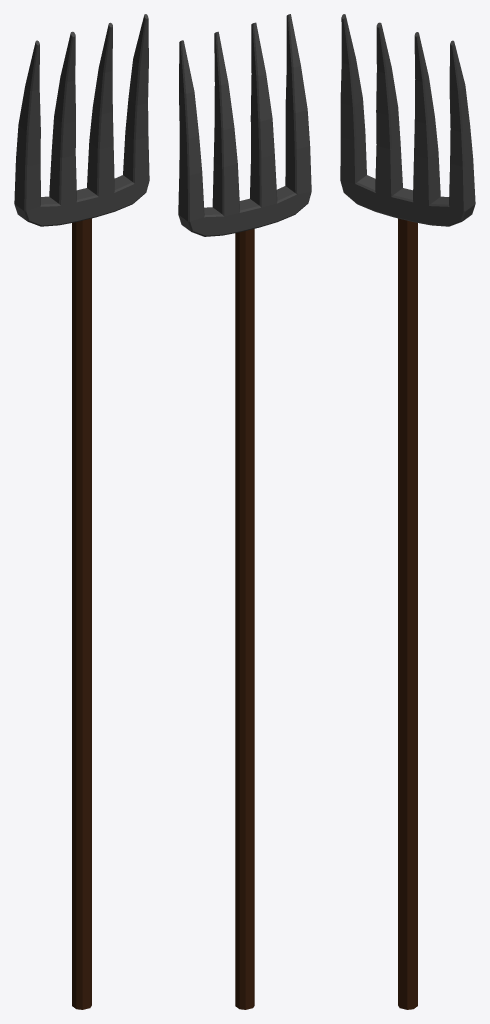
File: Pitchfork_FBX.fbx
3 views of the same model, side by side, from view 1: azimuth 30°, elevation 25°; view 2: azimuth 210°, elevation 25°; view 3: azimuth 330°, elevation 25° (orthographic).
Visible parts, largest first — view 1: Pitchfork; view 2: Pitchfork; view 3: Pitchfork.
Part boxes in pixels (left/top/right/bottom): Pitchfork: left=14, top=14, right=149, bottom=1009; Pitchfork: left=178, top=14, right=311, bottom=1009; Pitchfork: left=340, top=14, right=475, bottom=1009.
Size of the model in its own units: 25.5 by 191 by 5.94.
